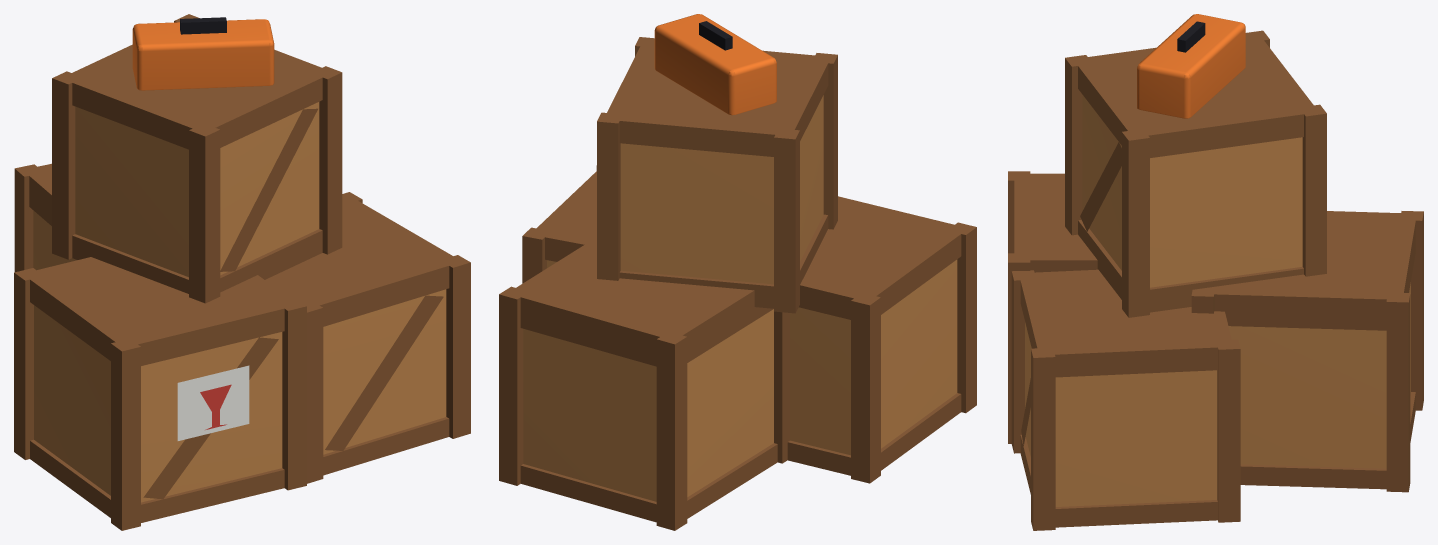
File: PilaCajas.fbx
3 renders of one model, left to right at view 1: azimuth 30°, elevation 25°; view 2: azimuth 150°, elevation 25°; view 3: azimuth 270°, elevation 25°, orthographic.
Visible parts, largest first — view 1: PilaCajas; view 2: PilaCajas; view 3: PilaCajas.
Boxes of the visible parts, x1,y1,x2,y2 form: PilaCajas: [14, 14, 470, 530]; PilaCajas: [499, 14, 976, 530]; PilaCajas: [1008, 14, 1423, 530].
Bounding box in the file's own units: 4.53 × 4.82 × 4.5.
Materials: 1 (1 with a texture image).
